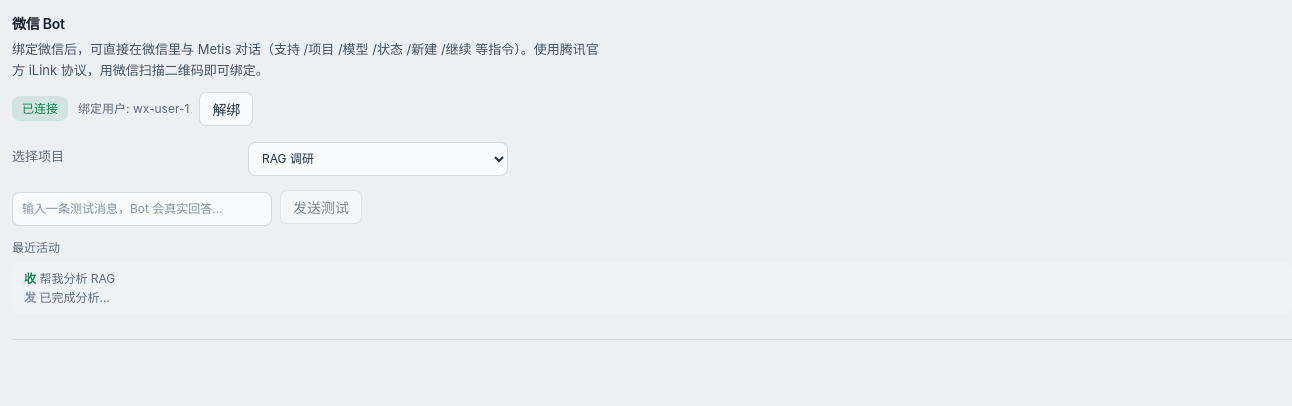
Test: SettingsWeChatBotSection › shows bound state with project binding, test send and activity log
This screenshot has width=1292, height=406.
Check: the element with test id "wechat-bound-area" is shown, box top-left (12, 92), bottom-right (1291, 315)
Check: the text "已连接" is shown, box top-left (12, 96), bottom-right (68, 121)
# Test message flows through the full agent path.
Step 1. Type "测试一下" into the field with test id "wechat-test-input" → (142, 209), box top-left (12, 192), bottom-right (272, 226)
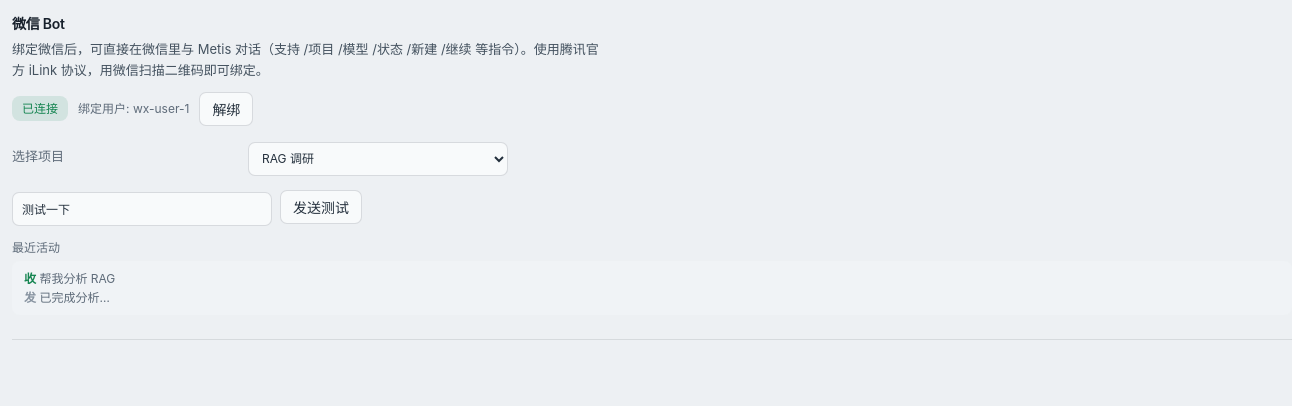
Step 2. Click the button with test id "wechat-test-send" → (321, 207), box top-left (280, 190), bottom-right (362, 224)
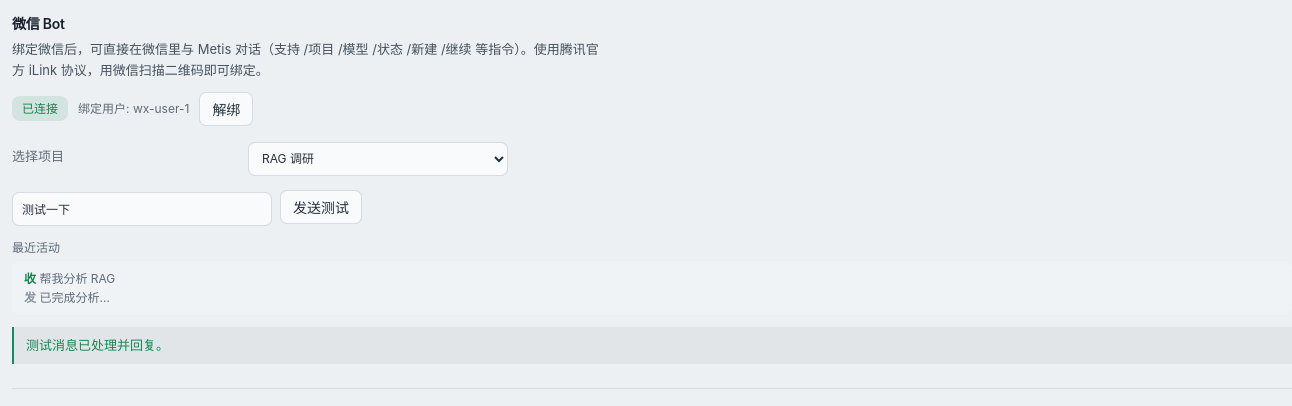
Check: the text "收 帮我分析 RAG" is shown, box top-left (24, 271), bottom-right (115, 286)
Check: the text "测试消息已处理并回复。" is shown, box top-left (12, 327), bottom-right (1291, 364)
